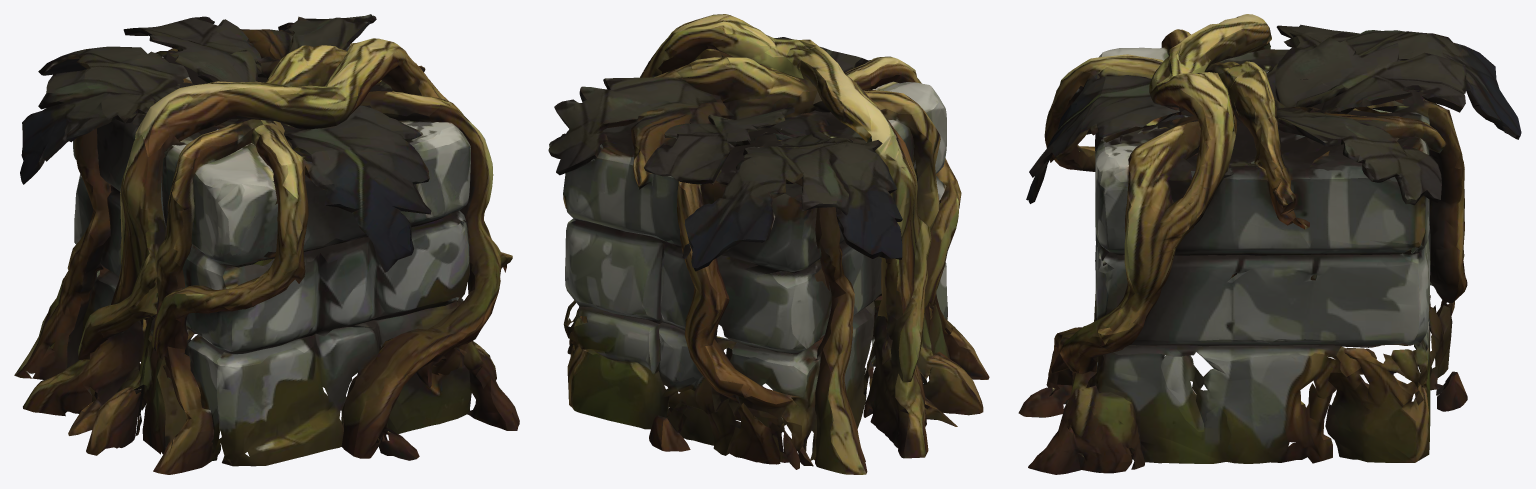
The model's file is ancient_vine_node.glb.
3 renders of one model, left to right at view 1: azimuth 30°, elevation 25°; view 2: azimuth 150°, elevation 25°; view 3: azimuth 270°, elevation 25°, orthographic. The views are drawn at different scales.
Parts seen in each view (by area): view 1: ancient_vine_node; view 2: ancient_vine_node; view 3: ancient_vine_node.
Part boxes in pixels (x1,y1,x2,y2): ancient_vine_node: (14,14,519,474); ancient_vine_node: (548,14,989,474); ancient_vine_node: (1018,14,1521,474).
Bounding box in the file's own units: 1.36 × 1.2 × 1.5.
Materials: 1 (1 with a texture image).
